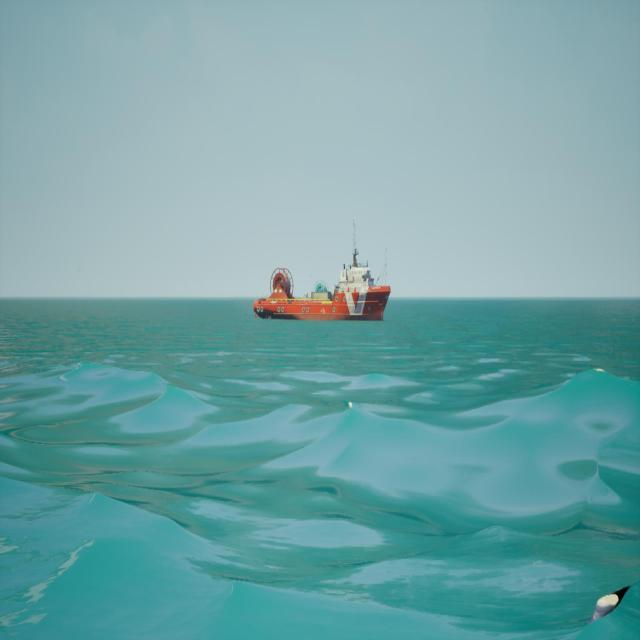tug boat: (256, 219, 393, 324)
